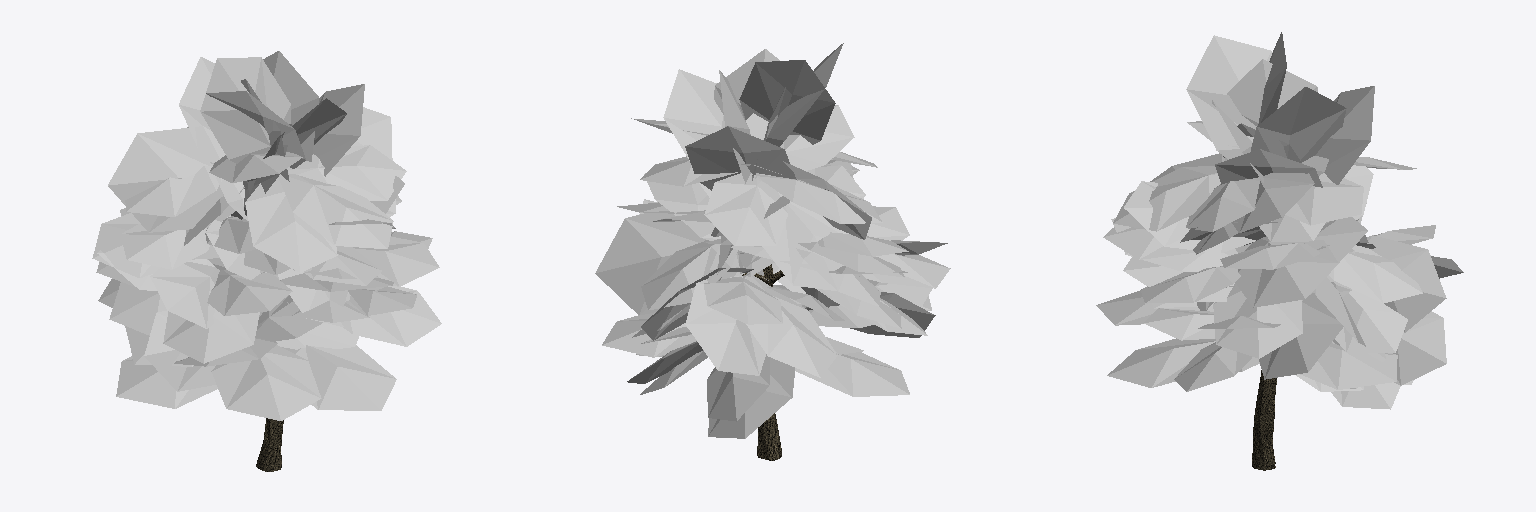
3 renders of one model, left to right at view 1: azimuth 30°, elevation 25°; view 2: azimuth 150°, elevation 25°; view 3: azimuth 270°, elevation 25°, orthographic.
Parts seen in each view (by area): view 1: tree4_apple; view 2: tree4_apple; view 3: tree4_apple.
Boxes of the visible parts, x1=… form: tree4_apple: x1=92, y1=51, x2=441, y2=471; tree4_apple: x1=595, y1=43, x2=950, y2=460; tree4_apple: x1=1096, y1=32, x2=1463, y2=470.
Bounding box in the file's own units: 10.26 × 13.44 × 10.87.
2 materials, 1 textured.